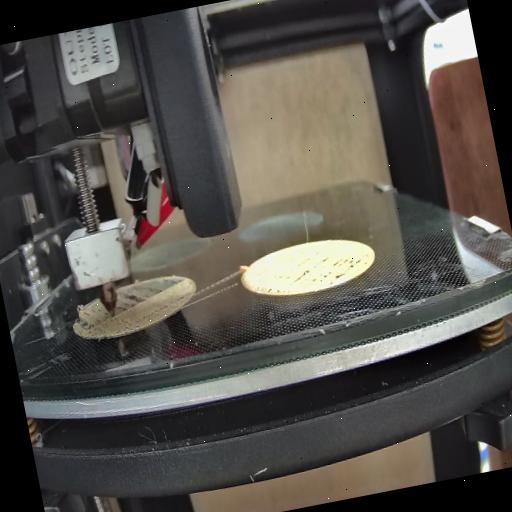under_extrusion: (251, 252, 372, 303), (64, 290, 108, 338), (110, 277, 168, 313)
